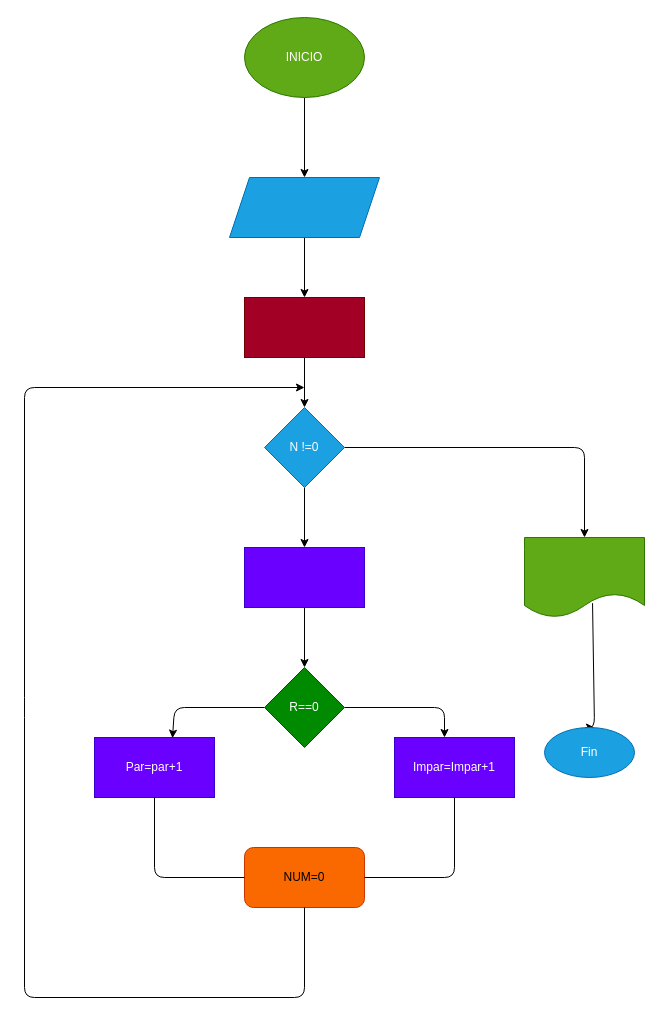
Some shapes in this 662 by 1023 pixel diagram are drawn without their labels. The centre of each missing label's shape, as x and y in pixels:
Dijite un numero par o impar: [304,207]
Par=0 Impar=0: [304,327]
R=n%2: [304,577]
Se ingresaron par numeros pares se ingresaron impar numeros impares: [584,577]
